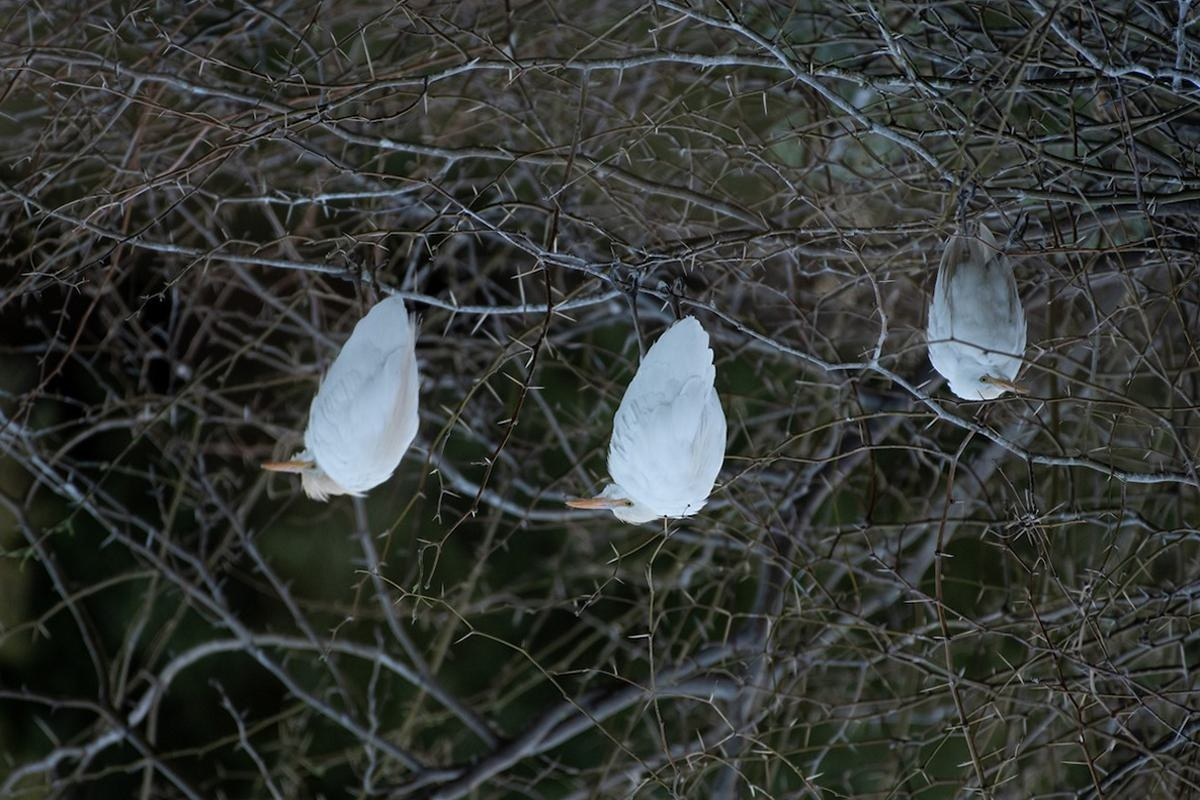egret: (269, 251, 448, 522), (585, 288, 739, 557), (896, 207, 1054, 433)
